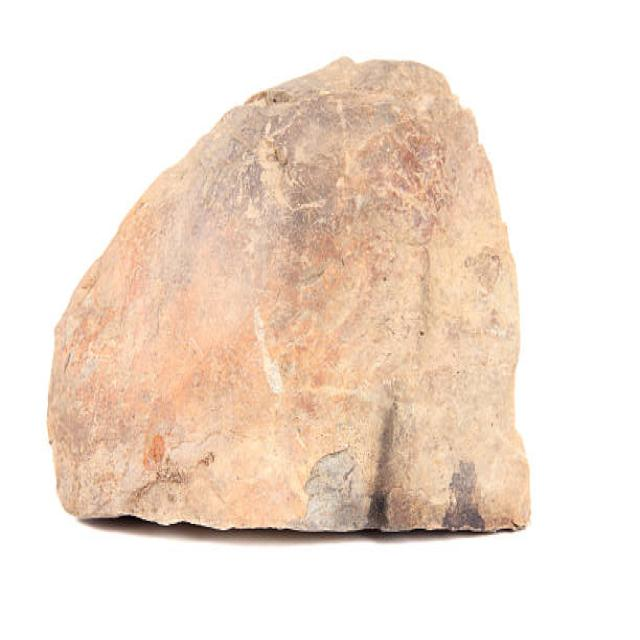stone: (47, 58, 529, 530)
